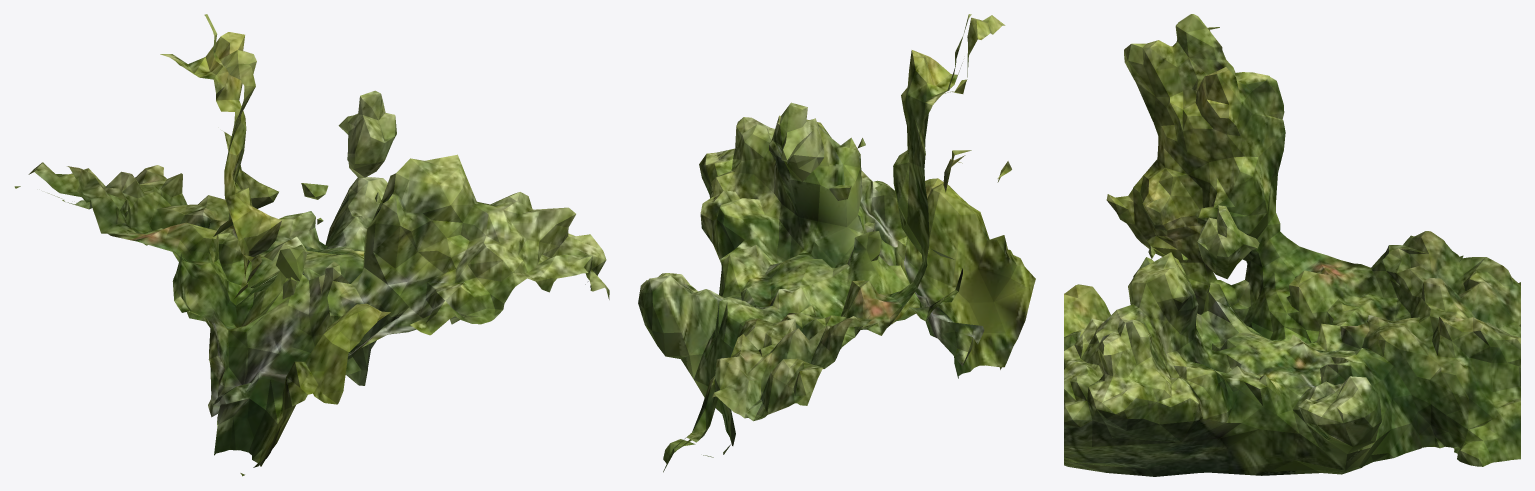
3 views of the same model, side by side, from view 1: azimuth 30°, elevation 25°; view 2: azimuth 150°, elevation 25°; view 3: azimuth 270°, elevation 25° (orthographic). The views are drawn at different scales.
Bounding box in the file's own units: 4.56 × 5.34 × 5.9.
Materials: 4 (4 with a texture image).
